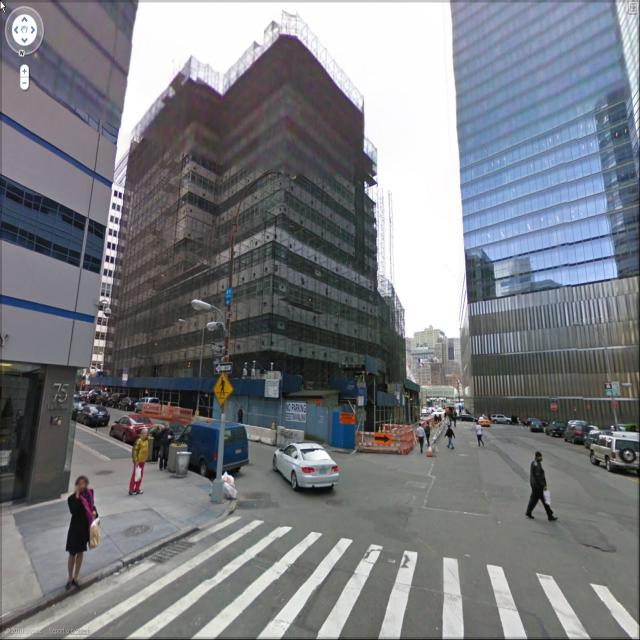b_1: (115, 49, 386, 436), (452, 4, 640, 430), (10, 1, 114, 467), (414, 315, 456, 417)
